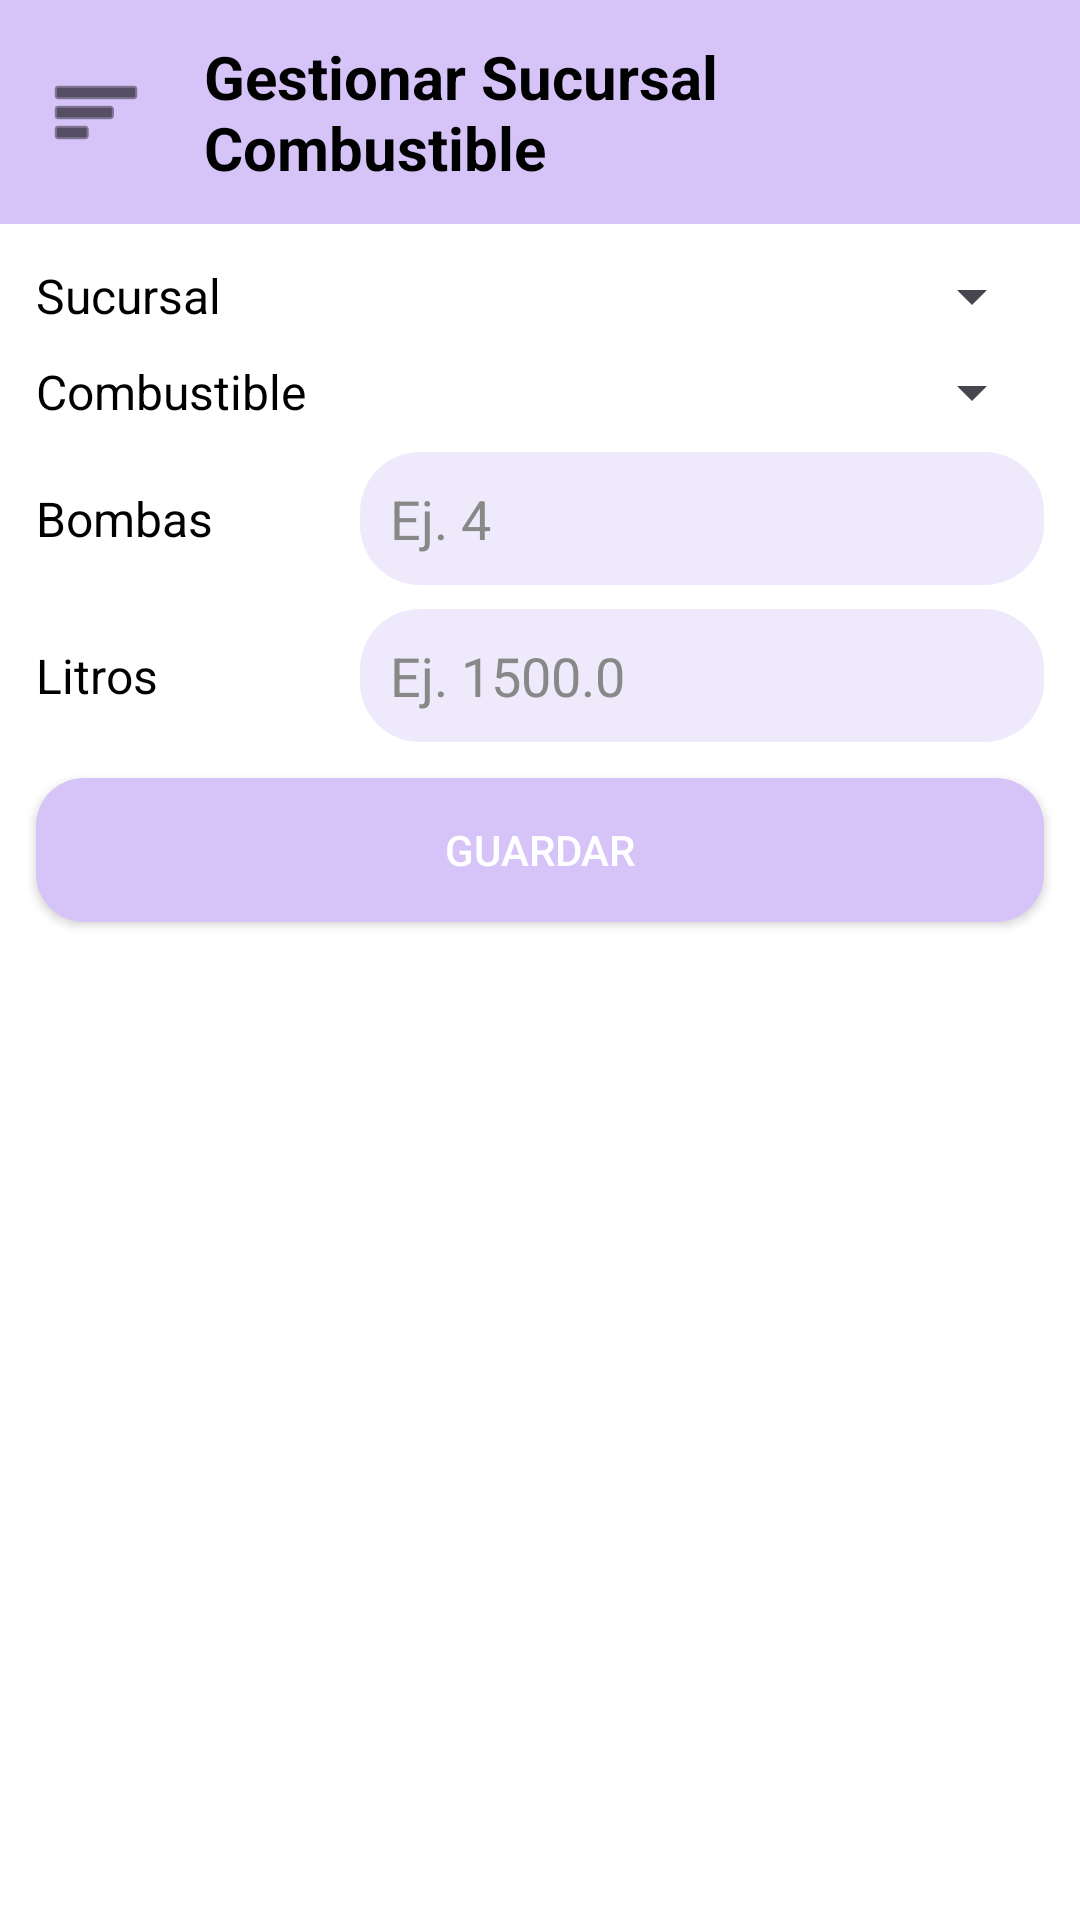

Icon click points for this 1080w x 1920h phone screenshot, format point (x, y):
Abrir menú: point (96, 112)
